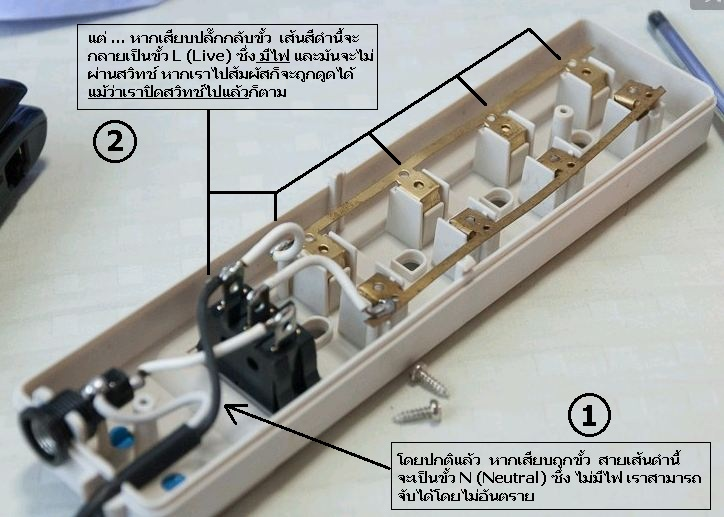Three_eye_plug: (5, 12, 724, 517)
